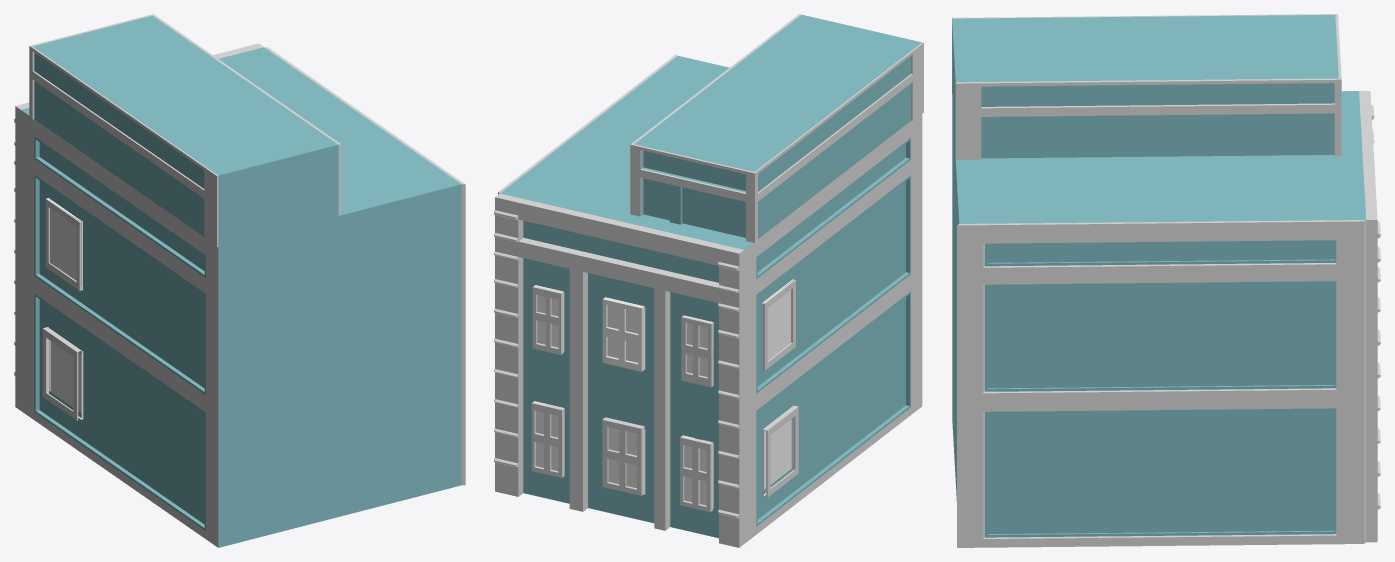
Rendered from bluehouse.glb.
3 renders of one model, left to right at view 1: azimuth 30°, elevation 25°; view 2: azimuth 150°, elevation 25°; view 3: azimuth 270°, elevation 25°, orthographic. The views are drawn at different scales.
Parts seen in each view (by area): view 1: 建物1.001, 建物1.側面.001, 白の枠.001, 建物1 白.001, 側面 窓下.001, 側面 窓上.001, 側面 窓枠下.001, 側面 窓枠上.001; view 2: 建物1.001, 建物1 白.001, 建物1.側面.001, 白の枠.001, 真ん中下 窓枠.001, 窓枠.013, 左下 窓枠.001, 右下 窓枠.001, 右上 窓枠.003, 側面 窓上.001, 側面 窓下.001, 右上 窓枠.002 (+8 smaller); view 3: 建物1.001, 白の枠.001, 建物1 白.001.
Part boxes in pixels (left/top/right/bottom): 建物1.001: left=21, top=15, right=461, bottom=547; 建物1.側面.001: left=20, top=110, right=218, bottom=547; 白の枠.001: left=29, top=14, right=465, bottom=485; 建物1 白.001: left=14, top=43, right=263, bottom=410; 側面 窓下.001: left=47, top=327, right=83, bottom=419; 側面 窓上.001: left=47, top=198, right=82, bottom=290; 側面 窓枠下.001: left=42, top=327, right=81, bottom=420; 側面 窓枠上.001: left=45, top=198, right=81, bottom=290; 建物1.001: left=500, top=14, right=921, bottom=538; 建物1 白.001: left=494, top=193, right=744, bottom=547; 建物1.側面.001: left=744, top=114, right=922, bottom=543; 白の枠.001: left=498, top=14, right=923, bottom=369; 真ん中下 窓枠.001: left=602, top=417, right=643, bottom=495; 窓枠.013: left=602, top=298, right=642, bottom=371; 左下 窓枠.001: left=531, top=402, right=564, bottom=477; 右下 窓枠.001: left=680, top=436, right=712, bottom=512; 右上 窓枠.003: left=681, top=316, right=713, bottom=387; 側面 窓上.001: left=762, top=279, right=793, bottom=370; 側面 窓下.001: left=762, top=405, right=794, bottom=496; 右上 窓枠.002: left=532, top=286, right=562, bottom=354; 建物1.001: left=952, top=15, right=1366, bottom=537; 白の枠.001: left=952, top=14, right=1366, bottom=547; 建物1 白.001: left=1359, top=91, right=1380, bottom=542.
Size of the model in its own units: 42.99 by 59.22 by 57.68.
